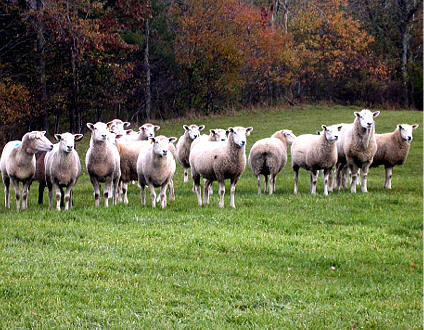sheep: (2, 122, 58, 207), (197, 126, 251, 211), (286, 127, 341, 204), (86, 125, 128, 204), (250, 125, 293, 194), (343, 110, 378, 194), (375, 121, 412, 199), (141, 134, 185, 198), (48, 131, 81, 208), (172, 123, 207, 170)
